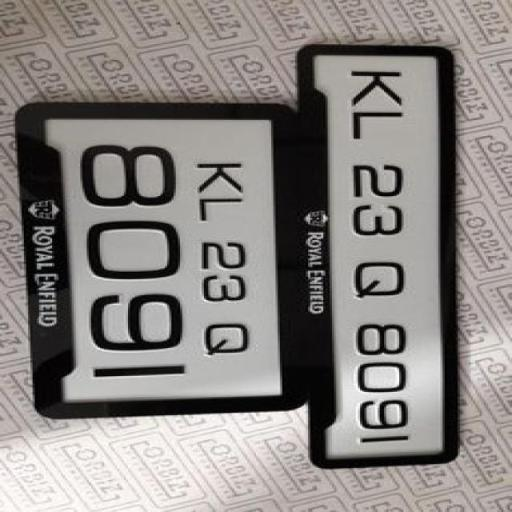number plate: (36, 108, 298, 410), (308, 51, 466, 465)
